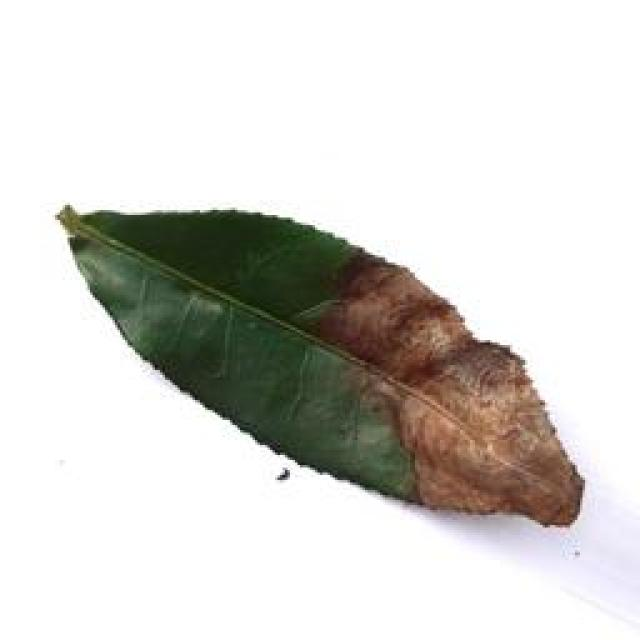Brown Blight: (56, 193, 584, 529)
